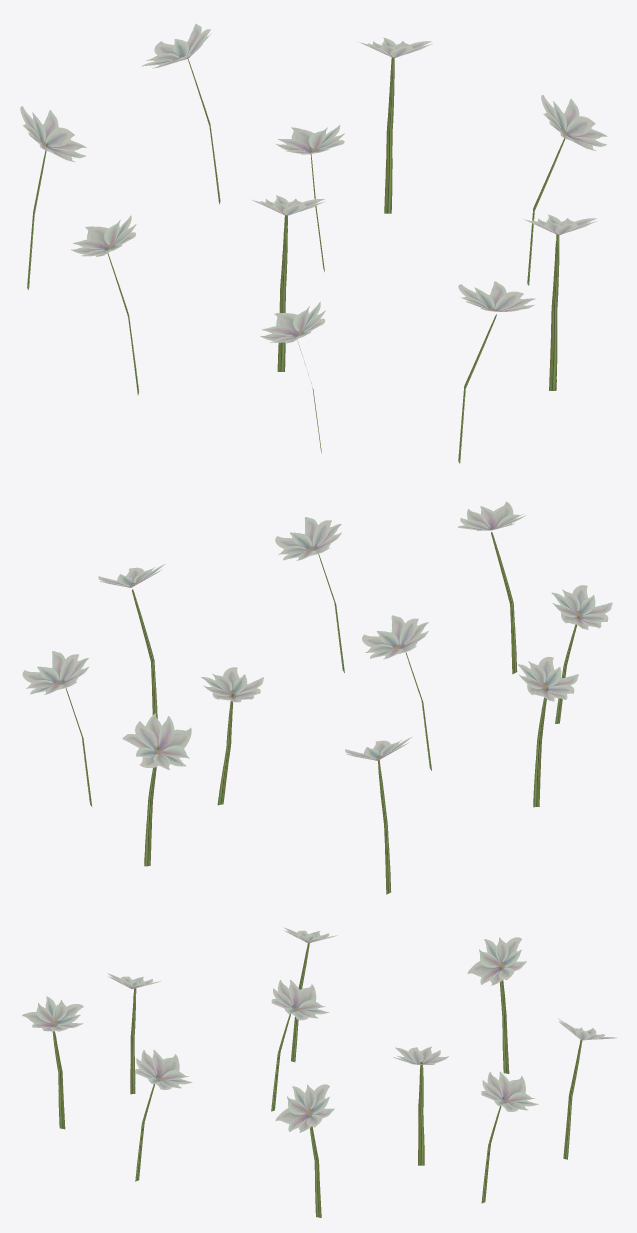
File: SM_Ground_White_Flower_D.fbx
3 views of the same model, one above another, from view 1: azimuth 30°, elevation 25°; view 2: azimuth 150°, elevation 25°; view 3: azimuth 270°, elevation 25° (orthographic). The views are drawn at different scales.
Visible parts, largest first — view 1: SM_Ground_White_Flower_D_LOD0; view 2: SM_Ground_White_Flower_D_LOD0; view 3: SM_Ground_White_Flower_D_LOD0.
Boxes of the visible parts, bbox=[...] form: SM_Ground_White_Flower_D_LOD0: bbox=[20, 24, 607, 463]; SM_Ground_White_Flower_D_LOD0: bbox=[22, 501, 612, 894]; SM_Ground_White_Flower_D_LOD0: bbox=[22, 927, 617, 1217].
Bounding box in the file's own units: 78.96 × 96.71 × 25.38.
Materials: 1 (1 with a texture image).
